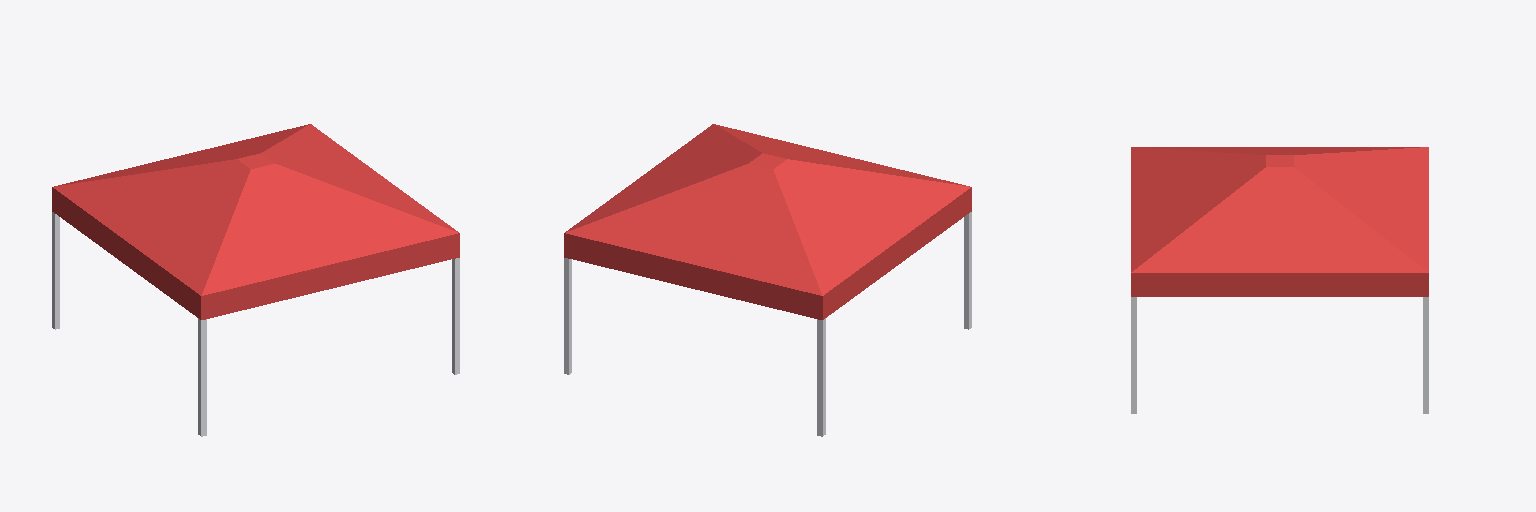
The model's file is tent.obj.
The picture shows the model from 3 angles: view 1: azimuth 30°, elevation 25°; view 2: azimuth 150°, elevation 25°; view 3: azimuth 270°, elevation 25°; orthographic projection.
Parts seen in each view (by area): view 1: tent; view 2: tent; view 3: tent.
Part boxes in pixels (bbox=[...]): tent: bbox=[52, 124, 459, 436]; tent: bbox=[564, 124, 971, 436]; tent: bbox=[1131, 147, 1428, 413].
Bounding box in the file's own units: 1 × 0.7 × 1.